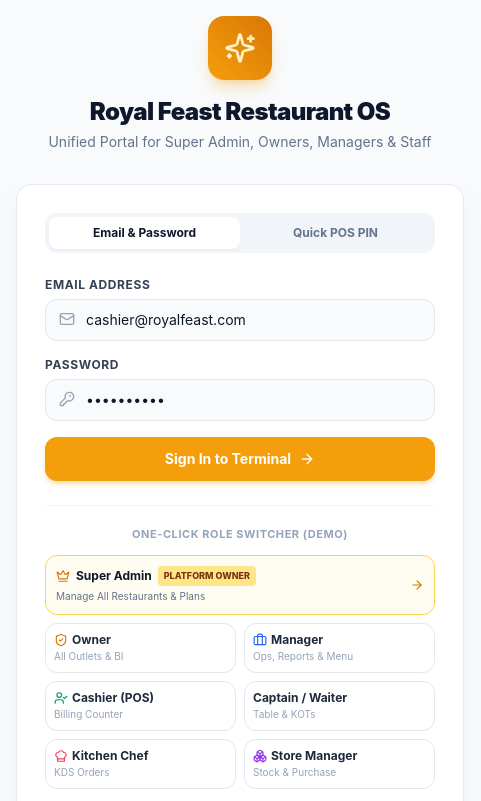
LoginPage Component › displays error message when credentials fail authentication
Click the button "Sign In to Terminal": [240, 459] box [45,437,435,481]
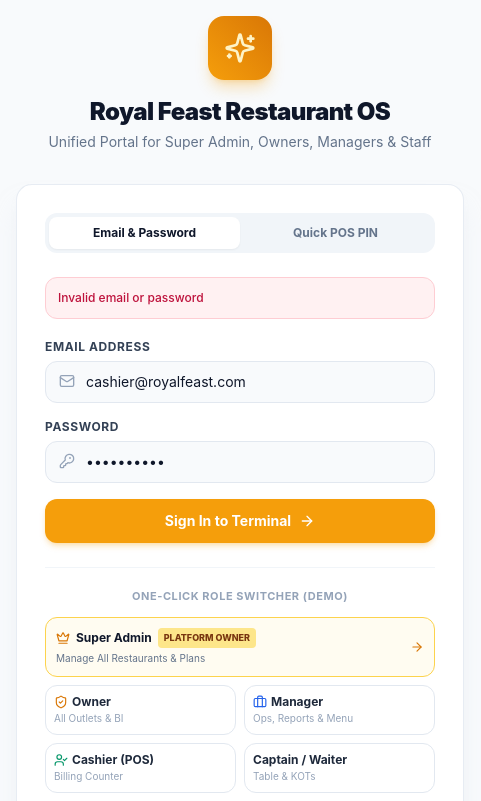
Now the text "Invalid email or password" is shown, box [45,277,435,319]
